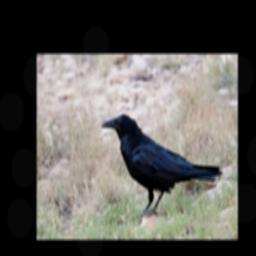Crow: (100, 113, 224, 222)
